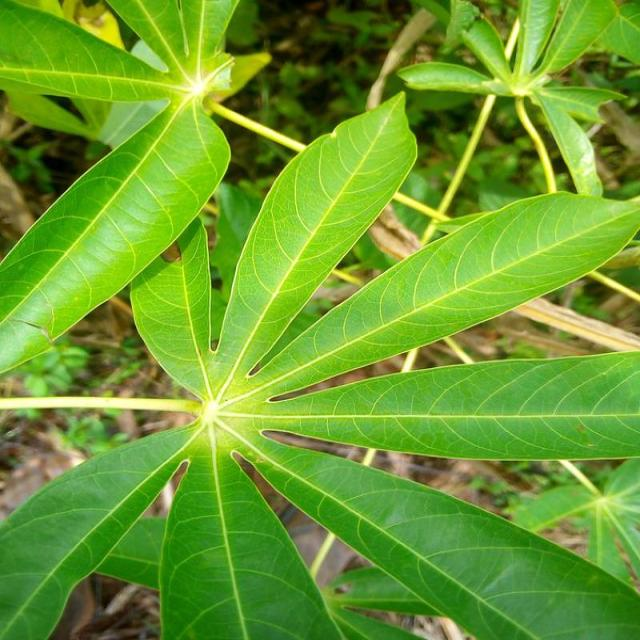cassava leaf: (1, 86, 638, 638), (0, 94, 231, 376)
